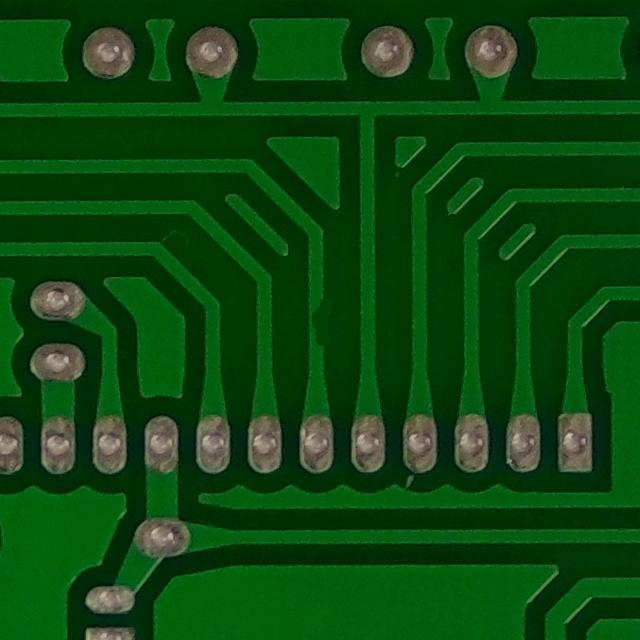mouse_bite: (298, 286, 343, 353)
